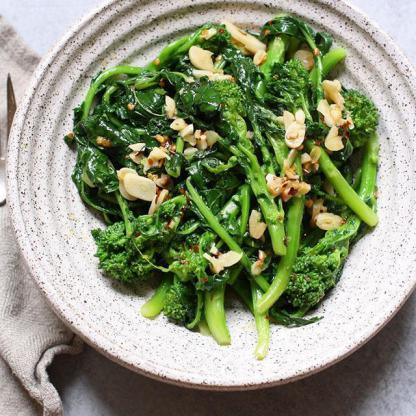broccoli: (77, 15, 388, 356)
